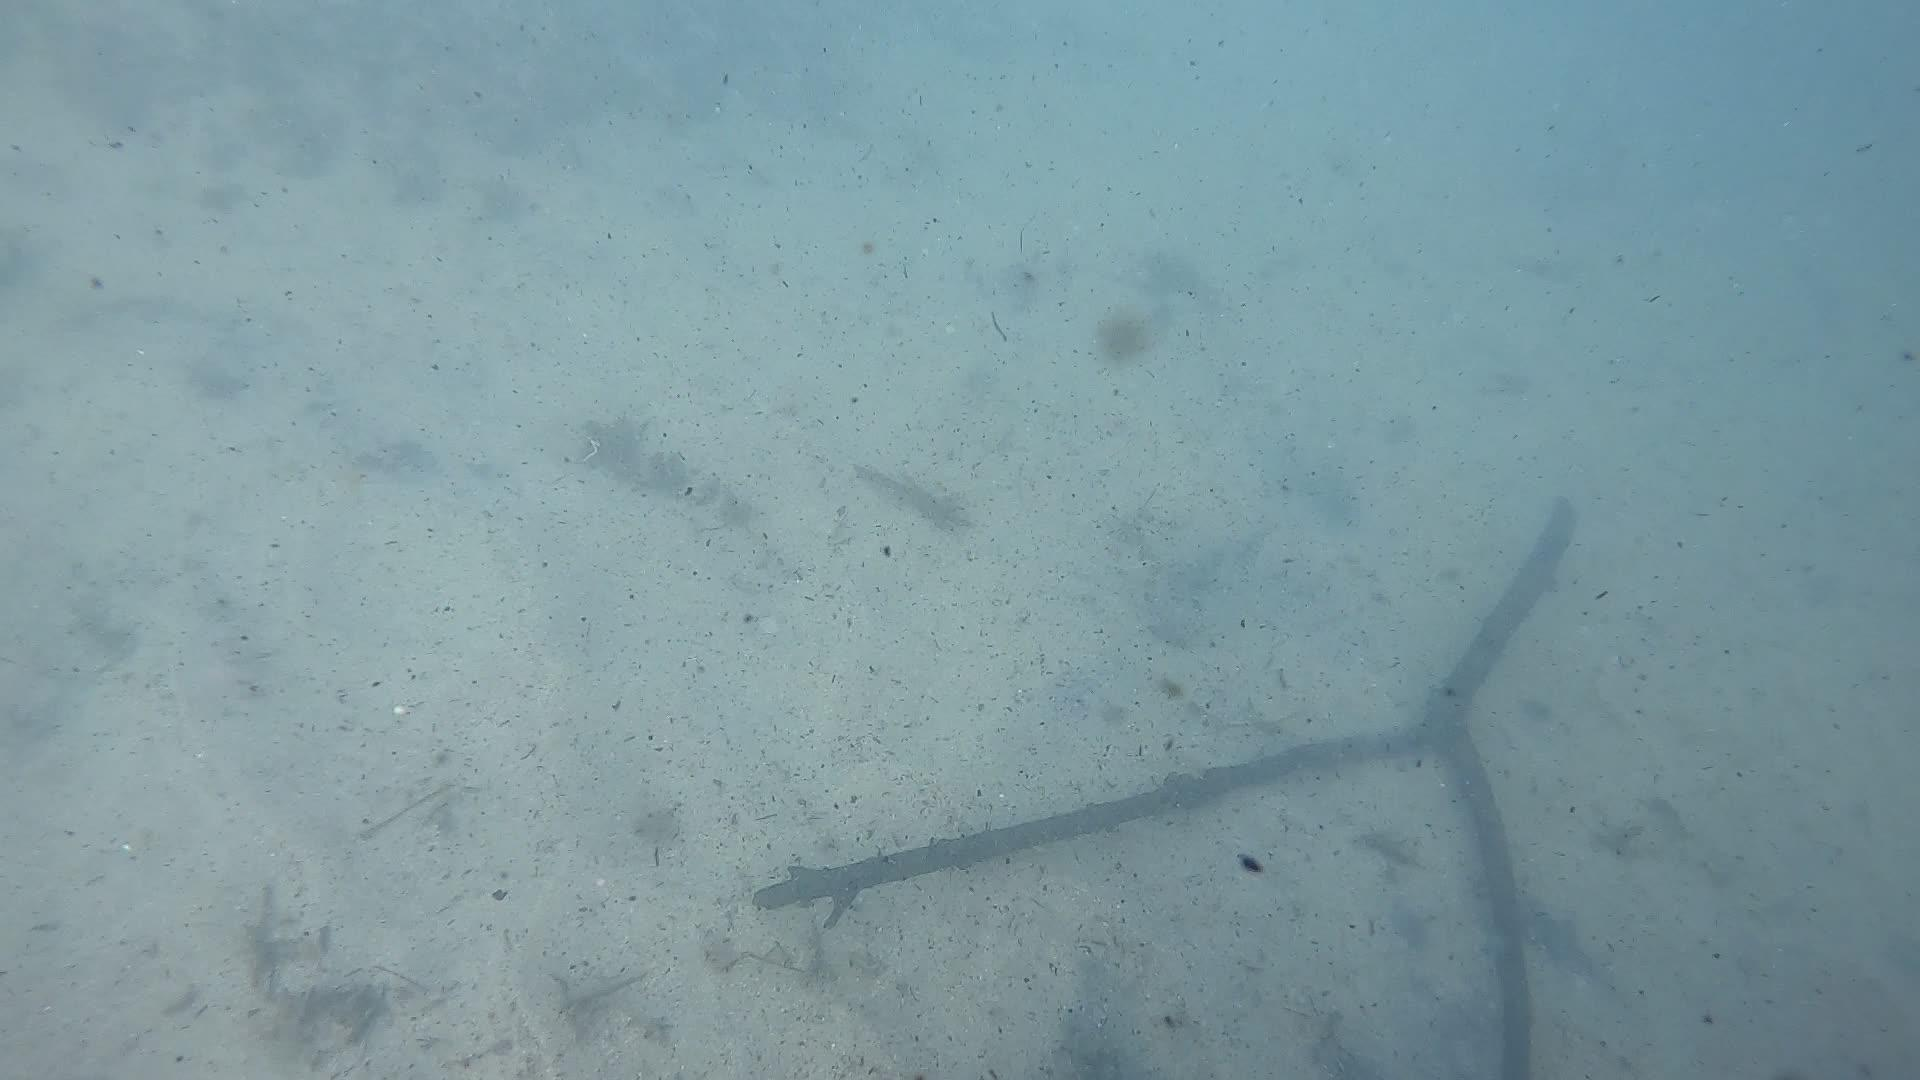wood: (754, 497, 1571, 1080)
